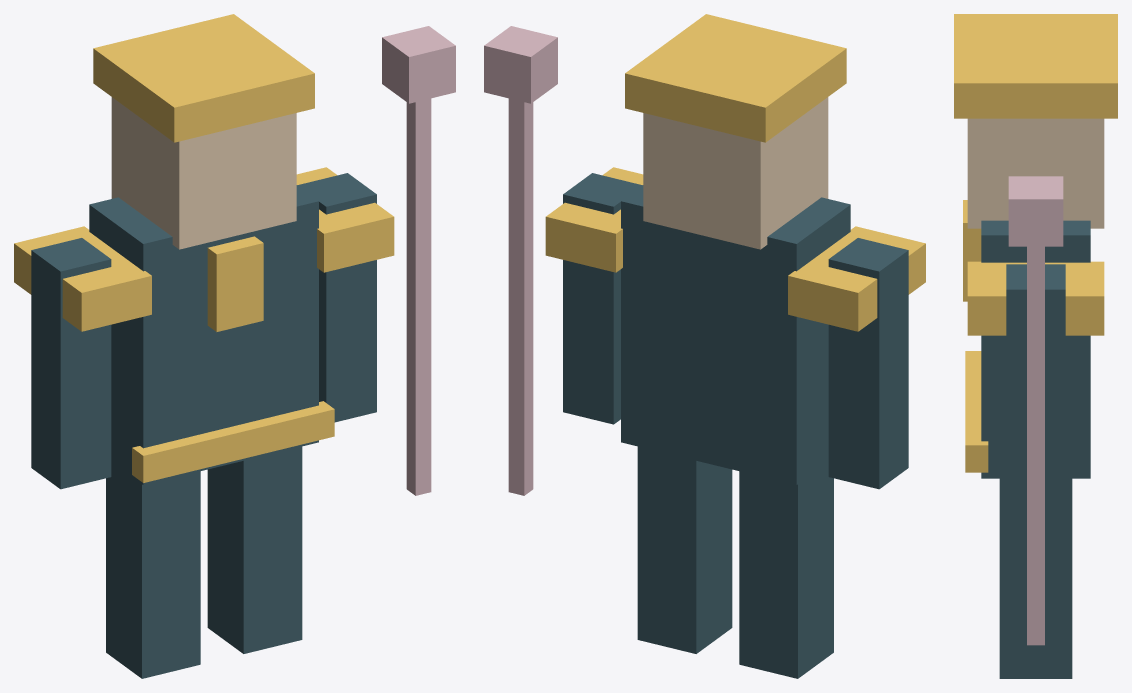
The model's file is 05_juno_voxmere_tamer_near.glb.
The picture shows the model from 3 angles, left to right: view 1: azimuth 30°, elevation 25°; view 2: azimuth 150°, elevation 25°; view 3: azimuth 270°, elevation 25°; orthographic projection.
Parts seen in each view (by area): view 1: Juno Voxmere, Tamer near; view 2: Juno Voxmere, Tamer near; view 3: Juno Voxmere, Tamer near.
Part boxes in pixels (x1,y1,x2,y2): Juno Voxmere, Tamer near: [14, 14, 455, 678]; Juno Voxmere, Tamer near: [484, 14, 925, 678]; Juno Voxmere, Tamer near: [954, 14, 1117, 678].
Bounding box in the file's own units: 1.08 × 1.53 × 0.3846.
